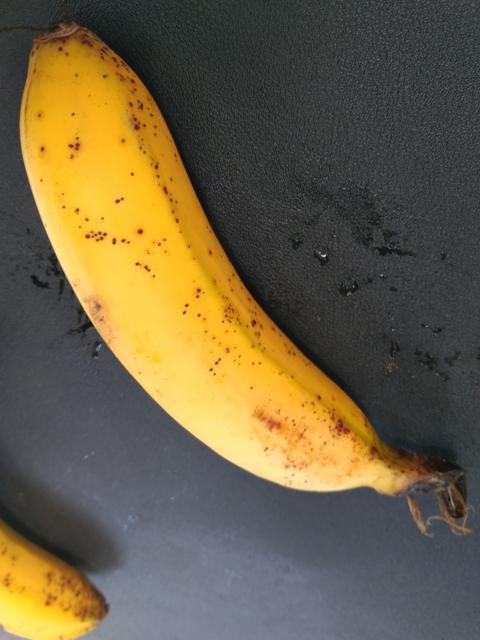ripe: (23, 38, 401, 520), (0, 479, 164, 639)
